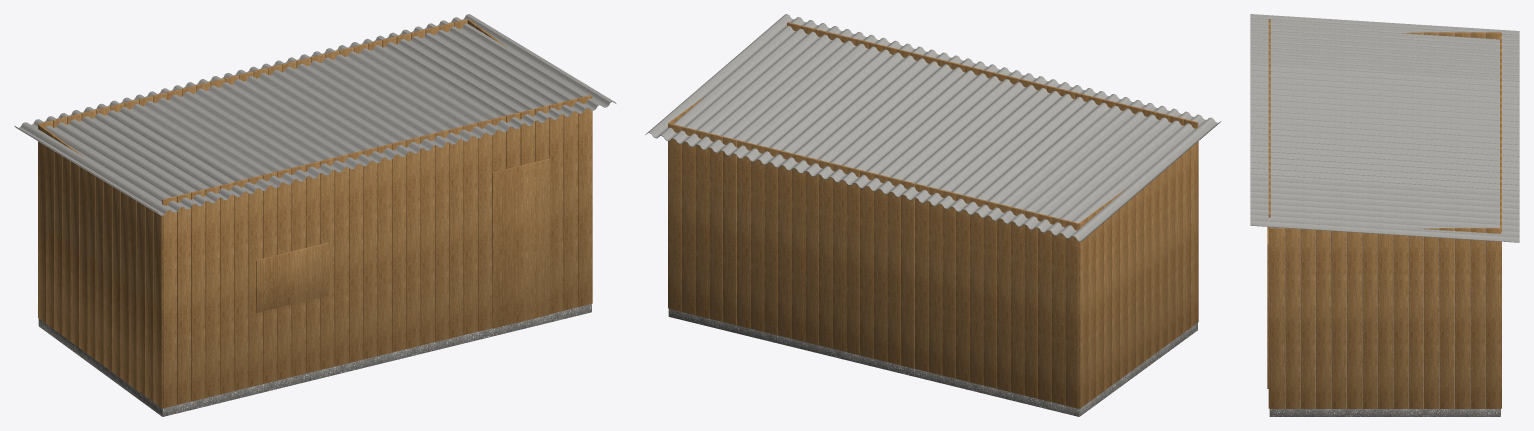
Rendered from SER-CNT-004.glb.
3 renders of one model, left to right at view 1: azimuth 30°, elevation 25°; view 2: azimuth 150°, elevation 25°; view 3: azimuth 270°, elevation 25°, orthographic. The views are drawn at different scales.
Visible parts, largest first — view 1: SER-CNT-004, SER-CNT-004_telhado, SER-CNT-004_porta, SER-CNT-004_piso, SER-CNT-004_janela; view 2: SER-CNT-004, SER-CNT-004_telhado, SER-CNT-004_piso; view 3: SER-CNT-004_telhado, SER-CNT-004, SER-CNT-004_piso, SER-CNT-004_porta.
Part boxes in pixels (x1,y1,x2,y2): SER-CNT-004: (38,19,592,408); SER-CNT-004_telhado: (14,14,616,215); SER-CNT-004_porta: (492,158,550,328); SER-CNT-004_piso: (38,304,591,416); SER-CNT-004_janela: (256,242,328,312); SER-CNT-004: (668,22,1198,408); SER-CNT-004_telhado: (645,14,1220,241); SER-CNT-004_piso: (668,309,1197,416); SER-CNT-004_telhado: (1250,14,1519,242); SER-CNT-004: (1268,19,1501,408); SER-CNT-004_piso: (1269,227,1500,416); SER-CNT-004_porta: (1267,227,1268,388).
Size of the model in its own units: 6.4 by 2.9 by 3.5.
Materials: 3 (3 with a texture image).
